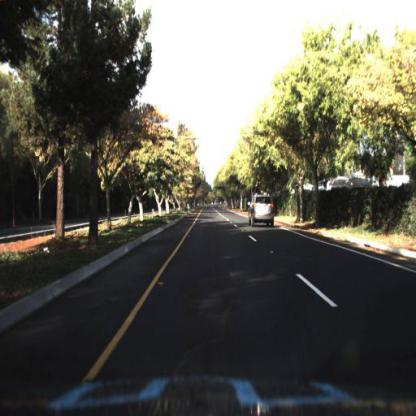car: (248, 194, 276, 228)
